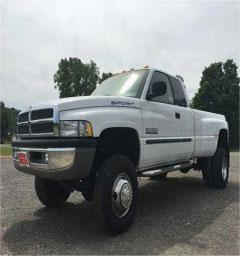car: (2, 46, 240, 238)
